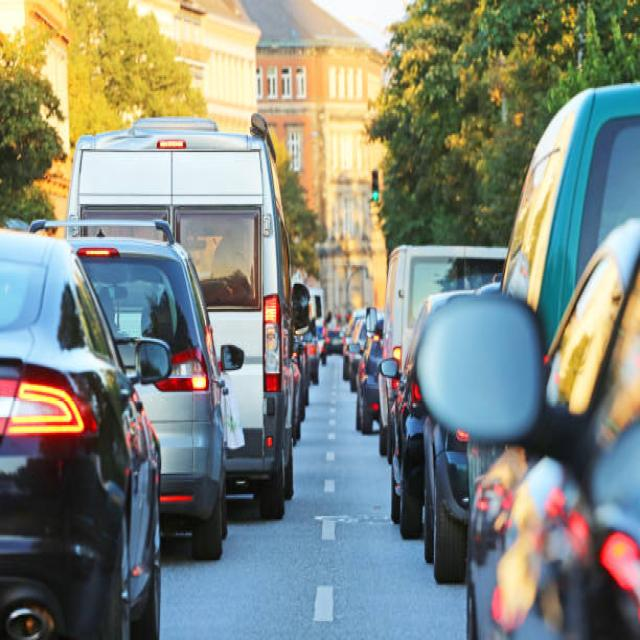Car: (27, 215, 244, 560), (0, 224, 166, 638)
MiniBus: (65, 113, 301, 519)
Traffic-light: (370, 168, 379, 201)
